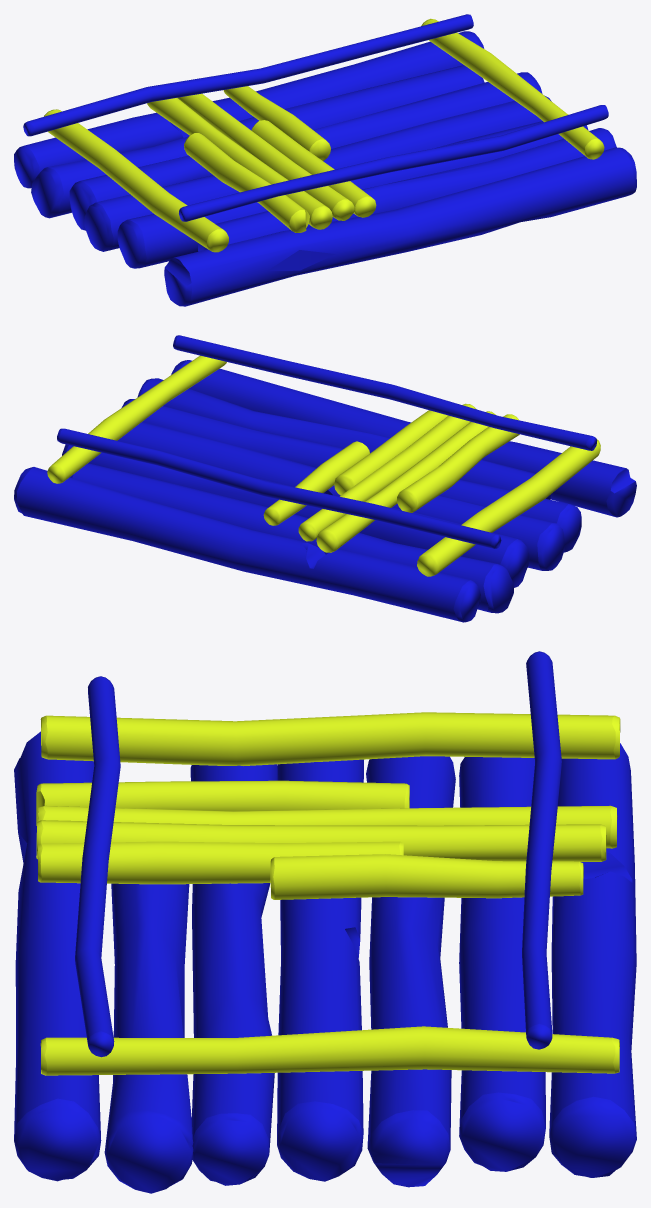
The model's file is Raft_00.fbx.
3 views of the same model, one above another, from view 1: azimuth 30°, elevation 25°; view 2: azimuth 150°, elevation 25°; view 3: azimuth 270°, elevation 25° (orthographic). The views are drawn at different scales.
Visible parts, largest first — view 1: Raft_00_Extras, Raft_00_Base; view 2: Raft_00_Extras, Raft_00_Base; view 3: Raft_00_Extras, Raft_00_Base.
Boxes of the visible parts, left/top/right/bottom form: Raft_00_Extras: left=14, top=14, right=636, bottom=306; Raft_00_Base: left=44, top=18, right=604, bottom=252; Raft_00_Extras: left=14, top=335, right=636, bottom=622; Raft_00_Base: left=47, top=355, right=600, bottom=576; Raft_00_Extras: left=14, top=651, right=636, bottom=1193; Raft_00_Base: left=36, top=712, right=620, bottom=1075.
Size of the model in its own units: 1179 by 218 by 780.
